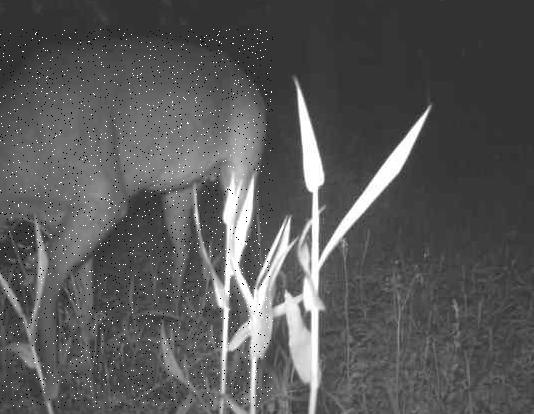Deer: (0, 29, 273, 408)
